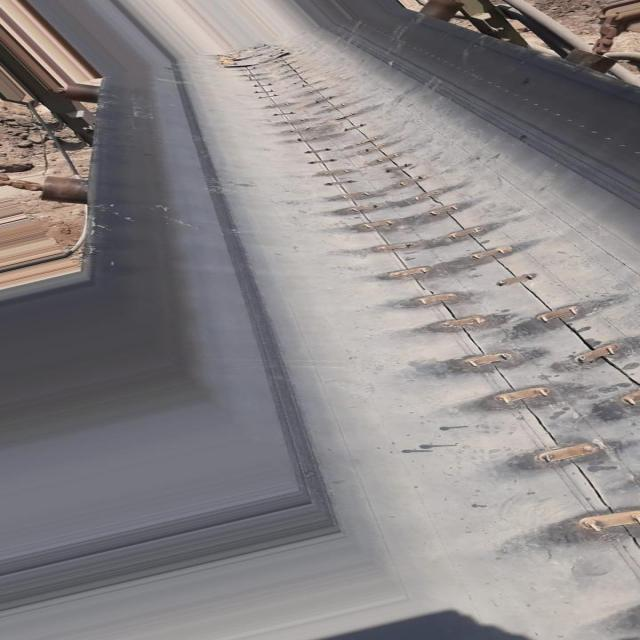Roller: (40, 175, 94, 202), (560, 47, 620, 70), (418, 0, 472, 21)
patch work: (200, 21, 640, 572)
